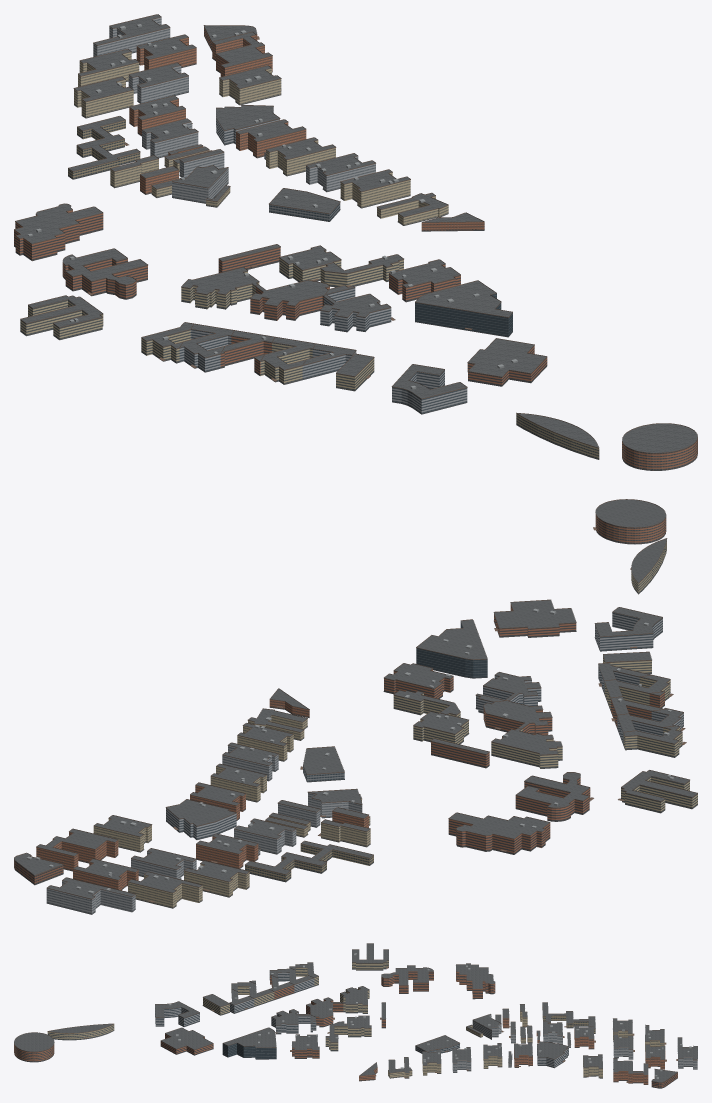
The model's file is gdufs_buildings.glb.
3 views of the same model, one above another, from view 1: azimuth 30°, elevation 25°; view 2: azimuth 150°, elevation 25°; view 3: azimuth 270°, elevation 25° (orthographic). The views are drawn at different scales.
Parts seen in each view (by area): view 1: B002, B041, B004, B031, B001, B003, B032, B020, B038E, B038F, B038G, B037 (+31 smaller); view 2: B041, B002, B031, B004, B001, B003, B020, B032, B008, B011, B038G, B012 (+31 smaller); view 3: B002, B031, B001, B004, B041, B032, B030, B038E, B038F, B011, B012, B003 (+27 smaller).
Part boxes in pixels (x1,y1,x2,y2): B002: [415, 280, 512, 337]; B041: [14, 203, 103, 261]; B004: [62, 248, 147, 299]; B031: [622, 423, 697, 470]; B001: [467, 338, 547, 386]; B003: [20, 295, 103, 340]; B032: [391, 364, 467, 414]; B020: [68, 116, 140, 179]; B038E: [320, 285, 395, 332]; B038F: [250, 280, 330, 320]; B038G: [181, 267, 259, 309]; B037: [389, 259, 460, 302]; B041: [448, 812, 550, 854]; B002: [416, 619, 487, 678]; B031: [593, 499, 666, 544]; B004: [515, 772, 593, 821]; B001: [493, 599, 576, 637]; B003: [618, 770, 697, 813]; B020: [245, 840, 373, 882]; B032: [594, 607, 662, 651]; B008: [46, 877, 135, 914]; B011: [36, 828, 118, 871]; B038G: [491, 728, 562, 768]; B012: [165, 799, 236, 839]; B002: [222, 1027, 276, 1059]; B031: [14, 1032, 54, 1062]; B001: [160, 1027, 213, 1055]; B004: [381, 965, 433, 993]; B041: [456, 963, 495, 999]; B032: [155, 1001, 199, 1026]; B030: [47, 1023, 114, 1040]; B038E: [271, 1009, 316, 1034]; B038F: [306, 997, 343, 1027]; B011: [613, 1058, 648, 1084]; B012: [537, 1041, 568, 1068]; B003: [352, 943, 388, 970].
Size of the model in its own units: 683 by 29.13 by 1430.
Materials: 16 (13 with a texture image).
